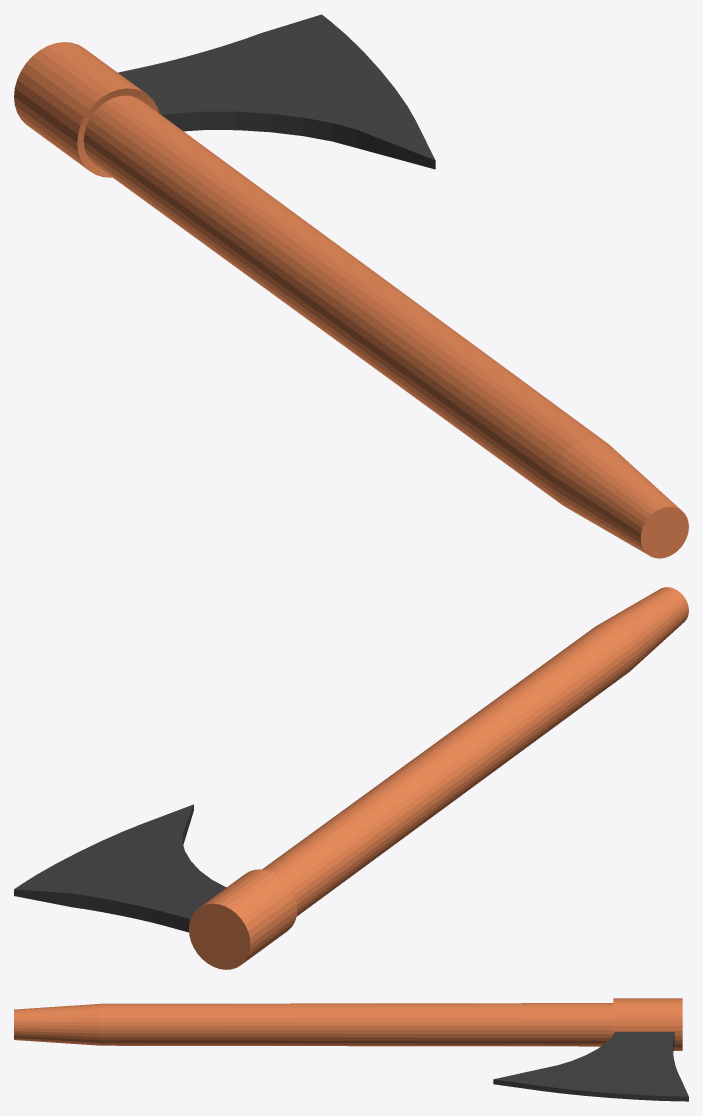
3 views of the same model, one above another, from view 1: azimuth 30°, elevation 25°; view 2: azimuth 150°, elevation 25°; view 3: azimuth 270°, elevation 25° (orthographic). The views are drawn at different scales.
Parts seen in each view (by area): view 1: 44; view 2: 44; view 3: 44.
Boxes of the visible parts, box(x1,y1,x2,y2) form: 44: box(14, 14, 688, 558); 44: box(14, 587, 688, 969); 44: box(14, 998, 688, 1101).
Bounding box in the file's own units: 9.93 × 2.64 × 33.73.
